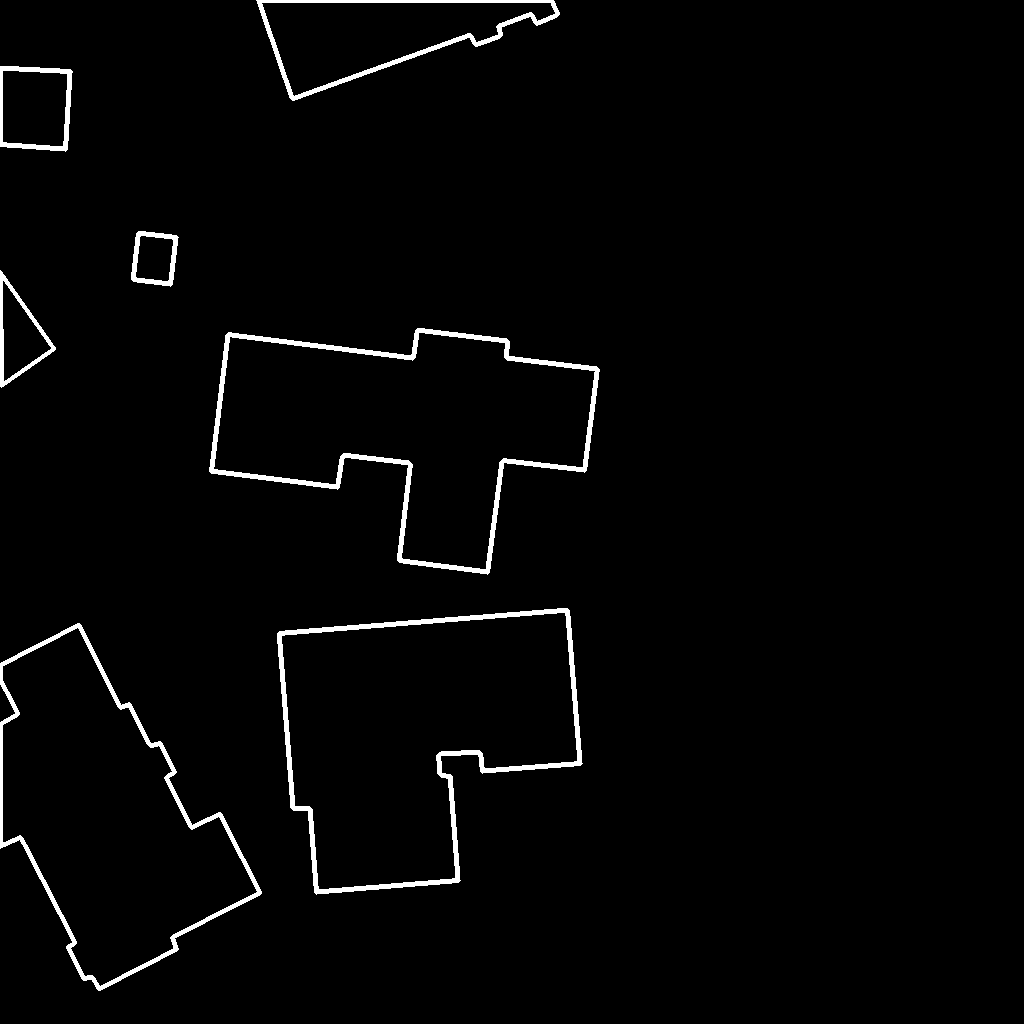building: (0, 625, 261, 990), (211, 330, 599, 573), (279, 610, 581, 893), (258, 0, 559, 100), (0, 272, 55, 387), (0, 68, 71, 150), (133, 233, 177, 285)
